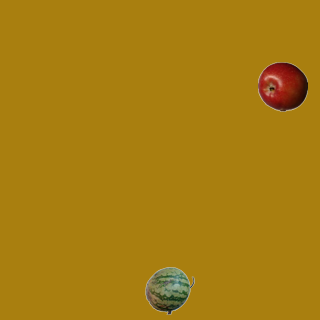Apple Braeburn: (257, 61, 307, 111)
Watermelon: (144, 265, 194, 315)
